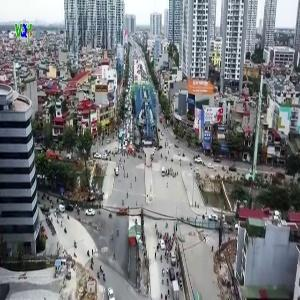drone: (193, 54, 244, 105)
